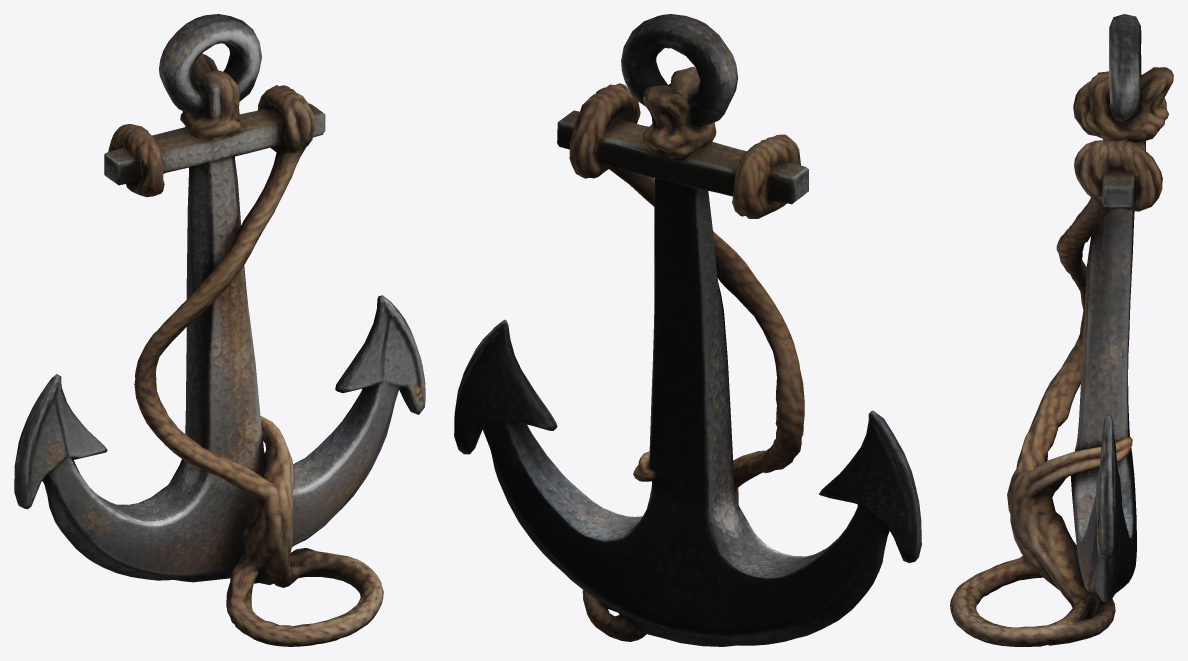
File: anchor.glb
3 renders of one model, left to right at view 1: azimuth 30°, elevation 25°; view 2: azimuth 150°, elevation 25°; view 3: azimuth 270°, elevation 25°, orthographic. The views are drawn at different scales.
Visible parts, largest first — view 1: world; view 2: world; view 3: world.
Boxes of the visible parts, x1,y1,x2,y2 form: world: (14,14,425,646); world: (454,14,921,646); world: (950,14,1173,646).
Bounding box in the file's own units: 0.7457 × 1 × 0.3512.
Materials: 1 (1 with a texture image).
